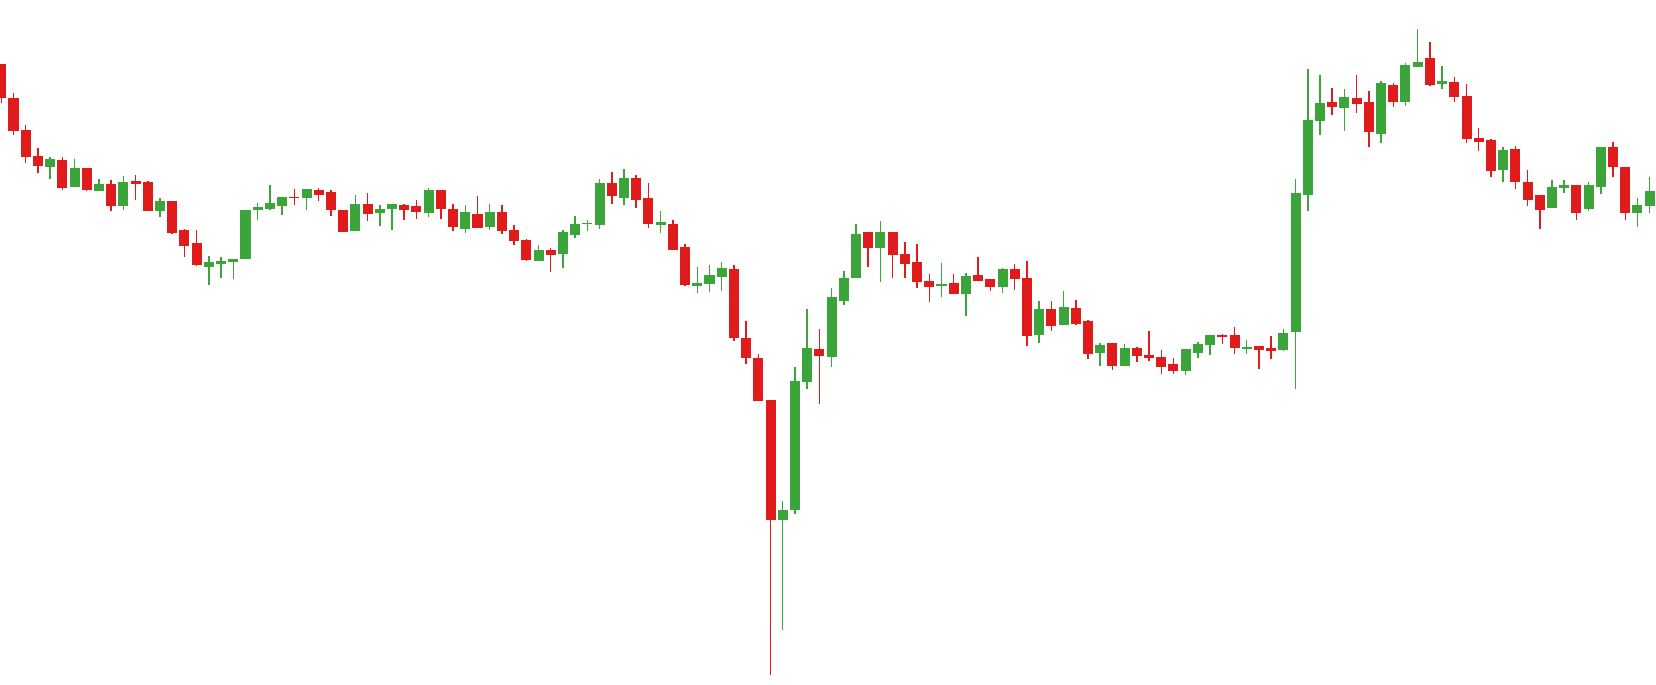sell: (420, 170, 617, 228)
